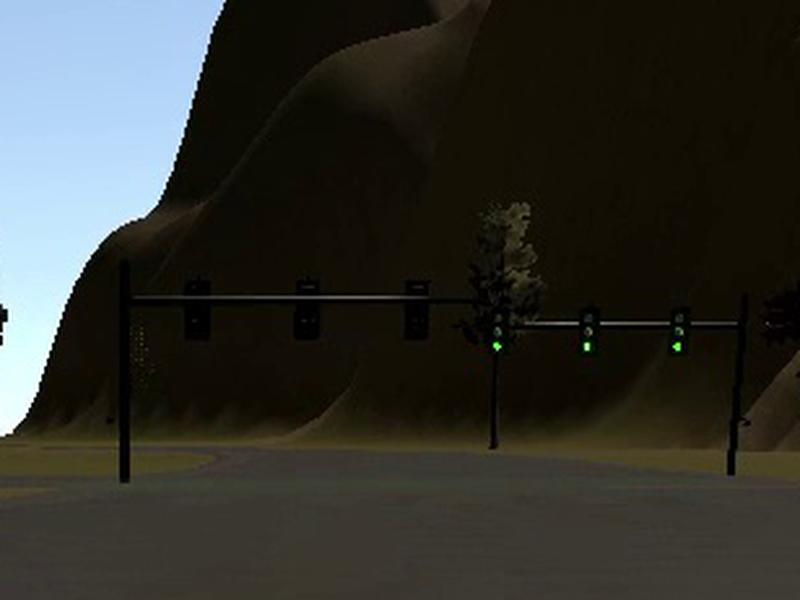Green: (577, 308, 599, 355), (668, 308, 688, 358), (489, 308, 508, 356)
